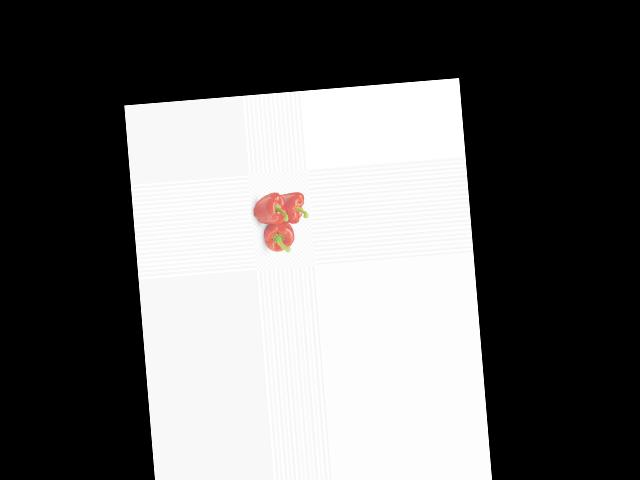bell_pepper: (259, 217, 299, 256)
